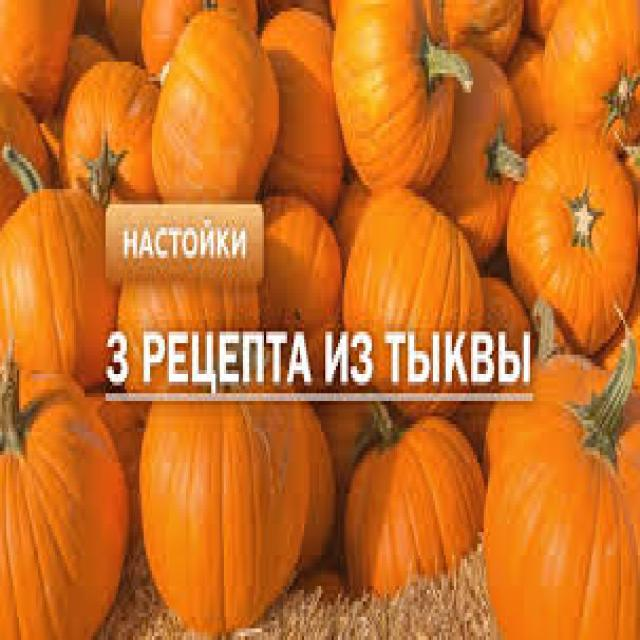pumpkin: (489, 318, 640, 639), (144, 360, 311, 640), (0, 362, 142, 640), (339, 397, 495, 640), (339, 182, 498, 394), (118, 200, 272, 418), (321, 0, 475, 208), (505, 116, 640, 348), (0, 169, 137, 397), (146, 0, 285, 216), (440, 34, 542, 279), (255, 0, 352, 239), (245, 177, 353, 383), (50, 48, 177, 215), (538, 0, 640, 139), (0, 0, 84, 132), (0, 71, 64, 233), (431, 0, 535, 85)
